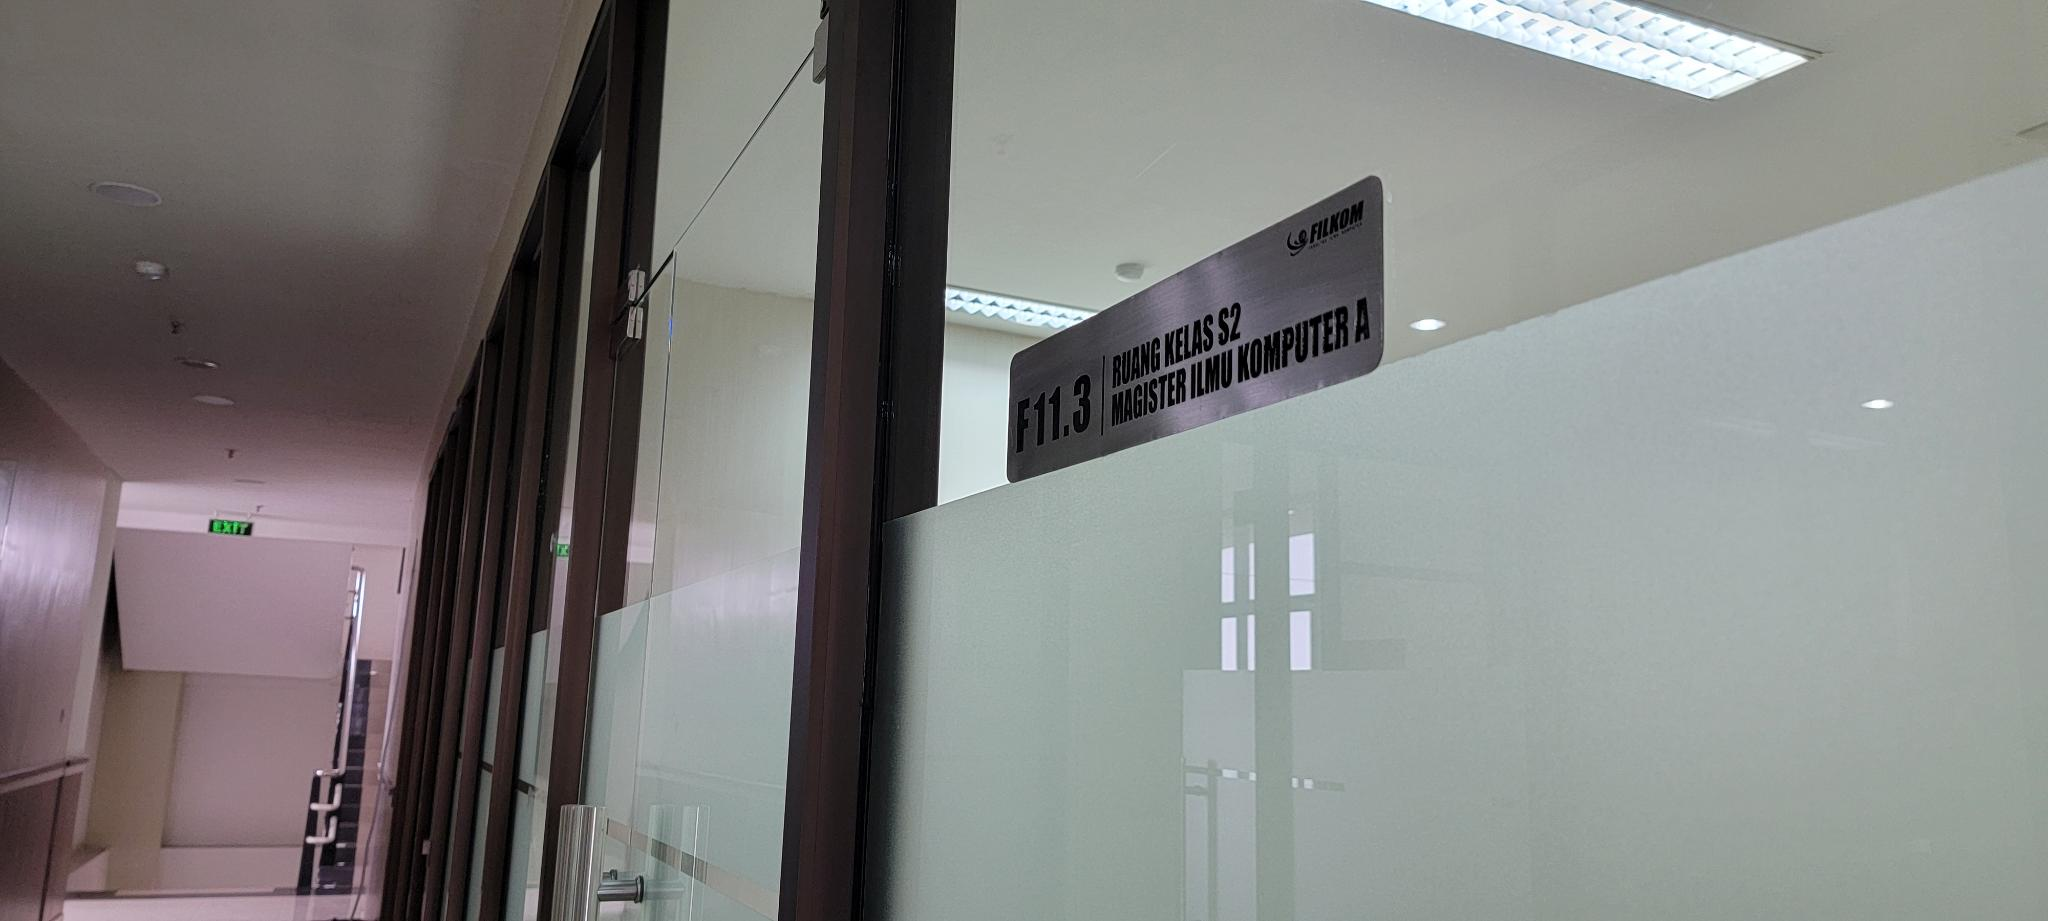plate: (1010, 170, 1387, 482)
